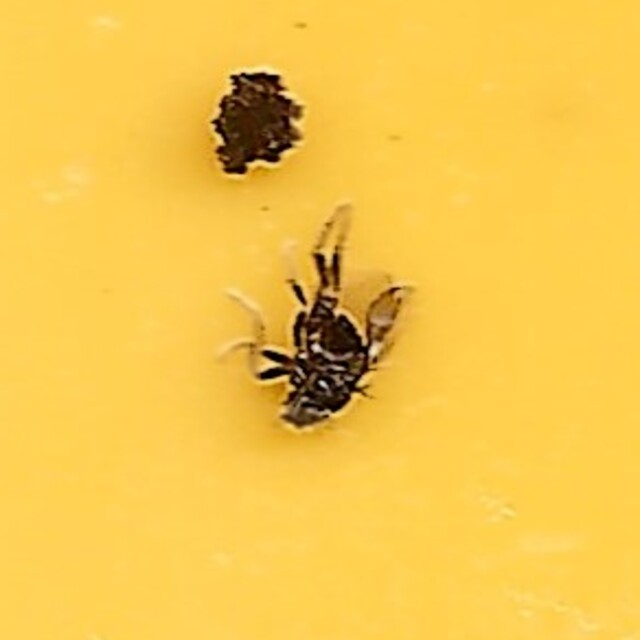Brachycera: (219, 203, 421, 437)
